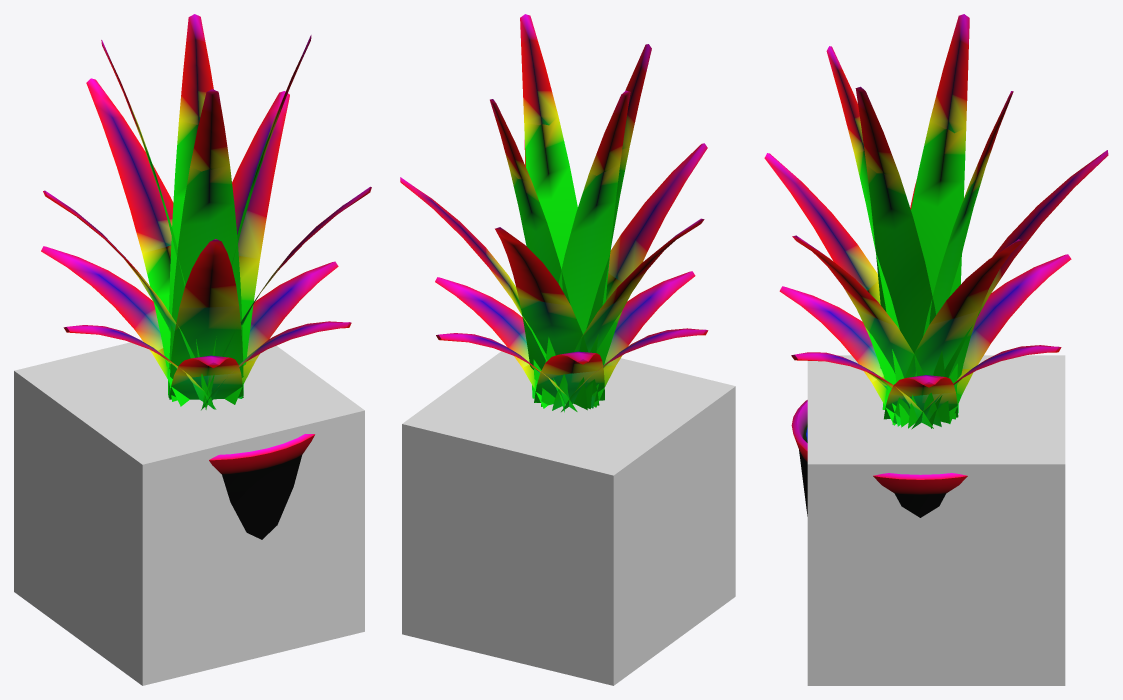
The model's file is prop_shop_plant.fbx.
3 views of the same model, side by side, from view 1: azimuth 30°, elevation 25°; view 2: azimuth 150°, elevation 25°; view 3: azimuth 270°, elevation 25° (orthographic). The views are drawn at different scales.
Visible parts, largest first — view 1: COL_0, prop_shop_plant; view 2: COL_0, prop_shop_plant; view 3: COL_0, prop_shop_plant.
Part boxes in pixels (x1,y1,x2,y2): COL_0: (14,339,364,685); prop_shop_plant: (41,14,371,539); COL_0: (402,351,735,685); prop_shop_plant: (400,14,708,412); COL_0: (807,355,1065,685); prop_shop_plant: (764,14,1108,517).
Size of the model in its own units: 0.5117 by 1 by 0.5344.
